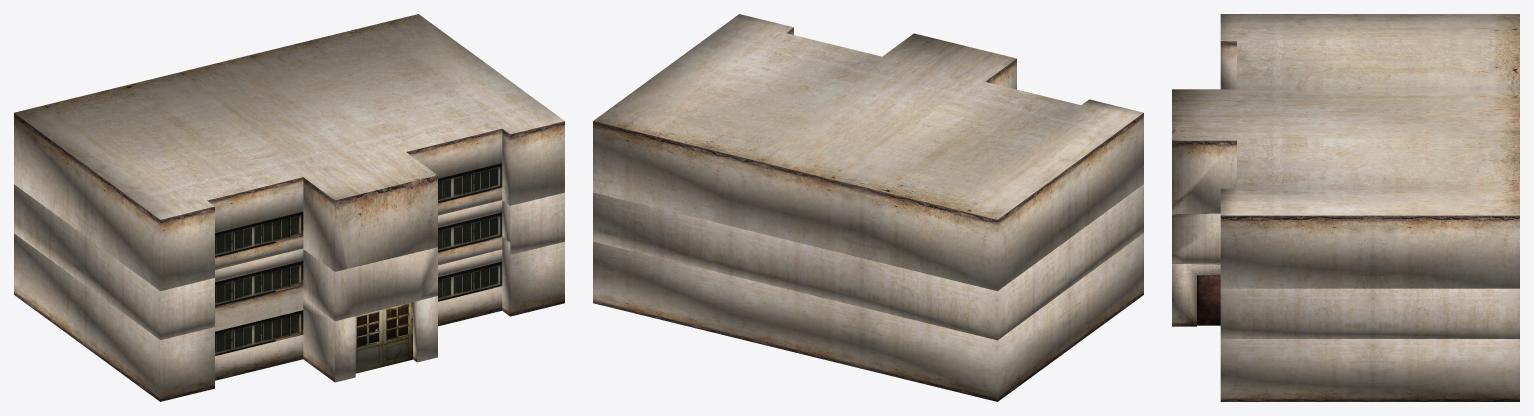
File: BuildingI_Seperated 1.fbx
3 renders of one model, left to right at view 1: azimuth 30°, elevation 25°; view 2: azimuth 150°, elevation 25°; view 3: azimuth 270°, elevation 25°, orthographic. The views are drawn at different scales.
Parts seen in each view (by area): view 1: BuildingI_Roof, BuildingI_Wall3, BuildingI_Wall1, BuildingI_Wall2, BuildingI_Door1, BuildingI_Window1, BuildingI_Window3, BuildingI_Window2, BuildingI_Window6, BuildingI_Window4, BuildingI_Window5; view 2: BuildingI_Roof, BuildingI_Wall3, BuildingI_Wall1, BuildingI_Wall2; view 3: BuildingI_Roof, BuildingI_Wall3, BuildingI_Wall1, BuildingI_Wall2, BuildingI_Door2.
Part boxes in pixels (x1,y1,x2,y2): BuildingI_Roof: (14,14,564,219); BuildingI_Wall3: (14,113,564,290); BuildingI_Wall1: (14,233,564,401); BuildingI_Wall2: (14,184,564,339); BuildingI_Door1: (355,302,412,373); BuildingI_Window1: (215,212,303,257); BuildingI_Window3: (215,310,303,355); BuildingI_Window2: (215,261,303,306); BuildingI_Window6: (438,163,502,203); BuildingI_Window4: (438,261,502,301); BuildingI_Window5: (438,212,502,252); BuildingI_Roof: (593,14,1143,219); BuildingI_Wall3: (593,28,1143,290); BuildingI_Wall1: (593,233,1143,401); BuildingI_Wall2: (593,184,1143,340); BuildingI_Roof: (1172,14,1519,215); BuildingI_Wall3: (1172,41,1519,288); BuildingI_Wall1: (1172,264,1519,401); BuildingI_Wall2: (1172,213,1519,338); BuildingI_Door2: (1197,275,1220,325).
Size of the model in its own units: 1799 by 774 by 1310.
